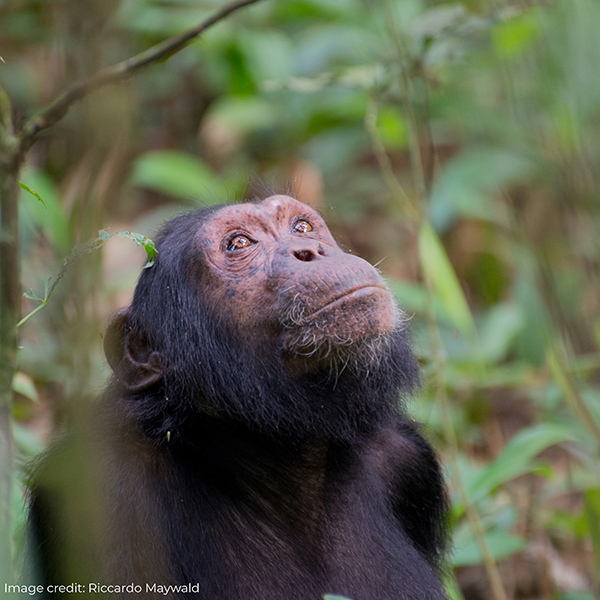Champanze: (82, 179, 453, 574)
